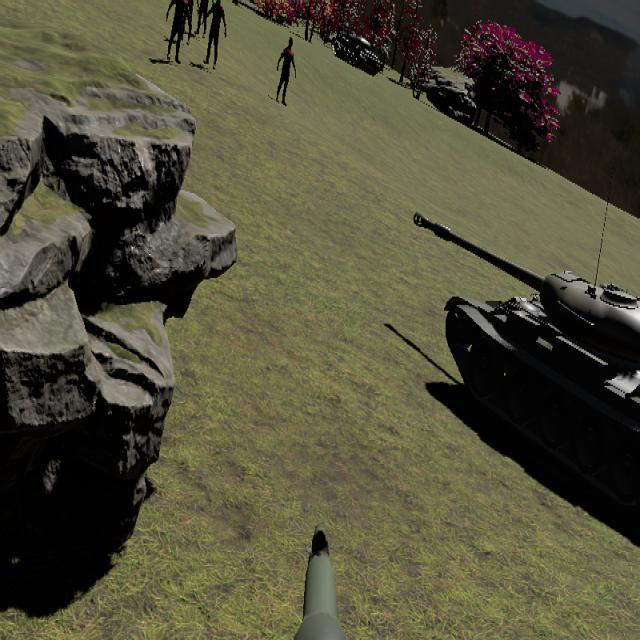Tank: (409, 209, 640, 525), (331, 29, 384, 76)
